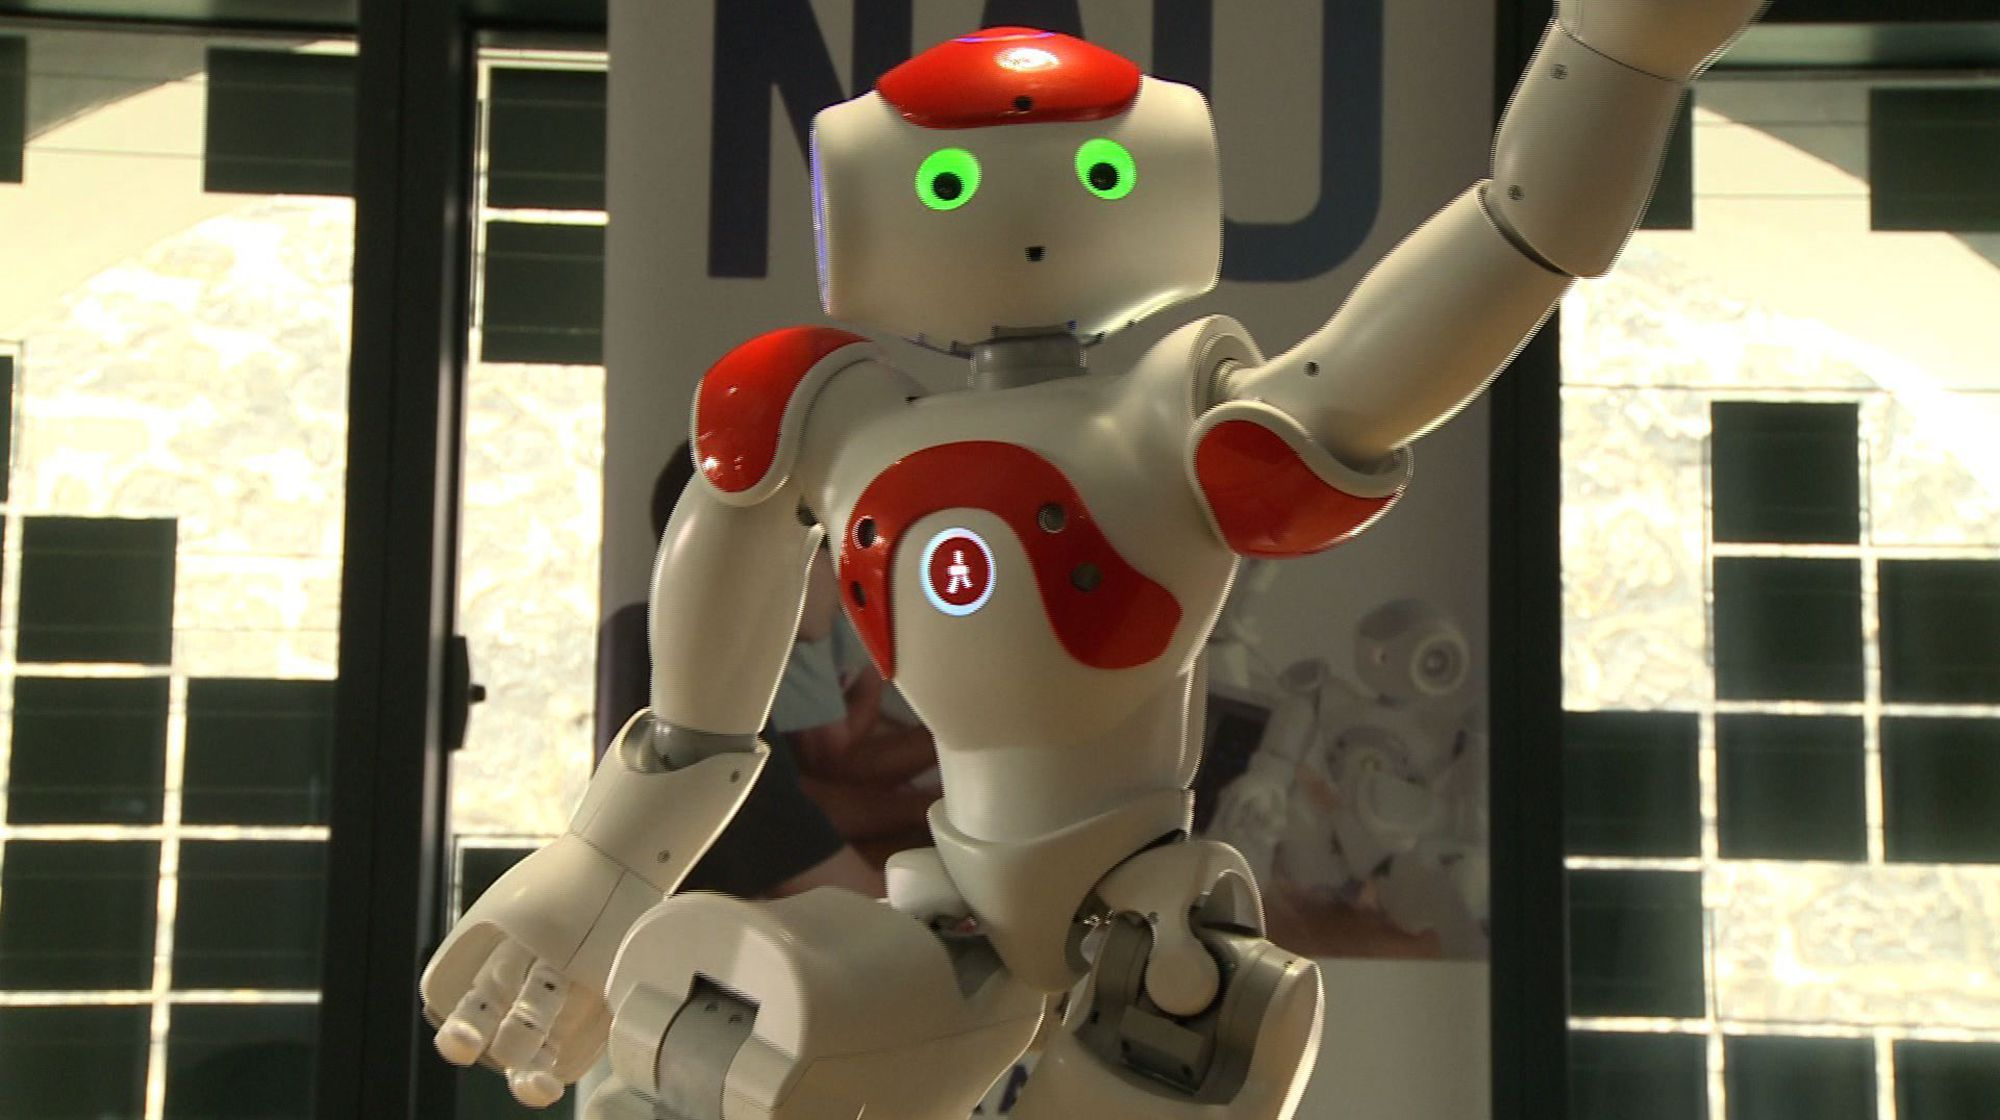nao: (398, 14, 1784, 1120)
